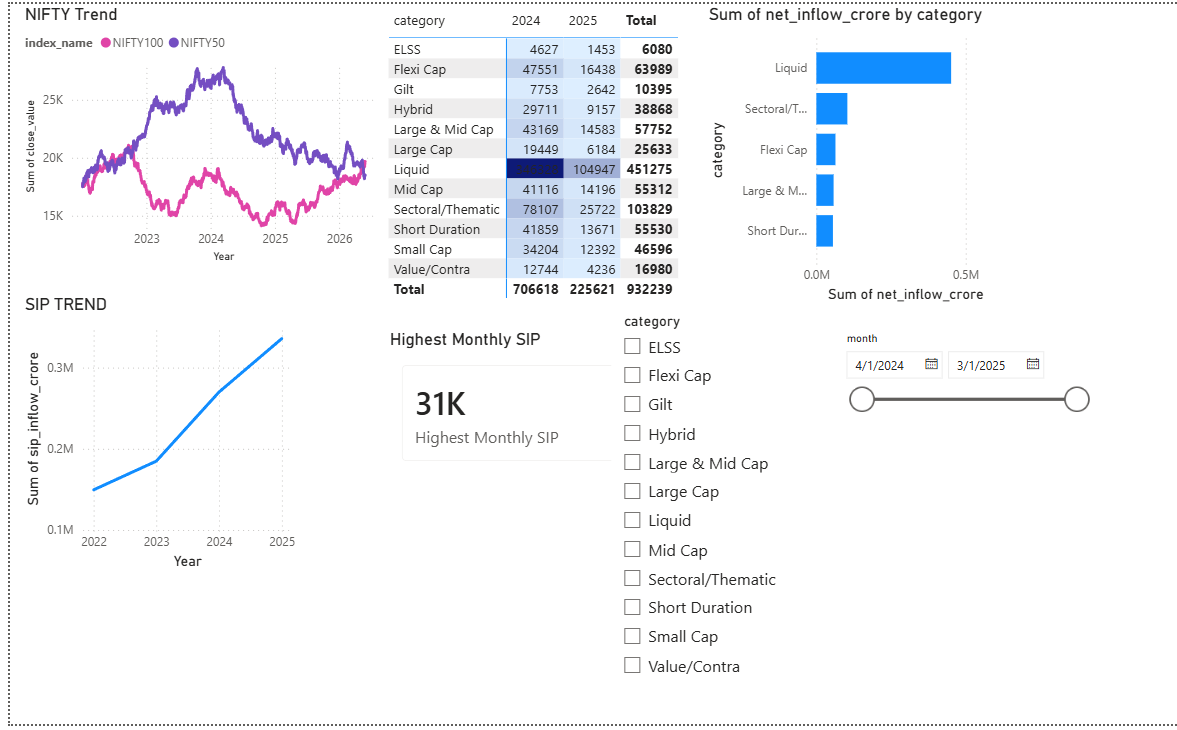

This screenshot's page, from the dashboard's own definition file:
{"tool":"powerbi","page":{"name":"SIP & Market Trends","canvas":[1280,720],"ordinal":3},"visuals":[{"type":"lineChart","title":"NIFTY Trend","fields":{"Y":["Sum(10_benchmark_indices.close_value)"],"Category":["10_benchmark_indices.date.Variation.Date Hierarchy.Year","10_benchmark_indices.date.Variation.Date Hierarchy.Quarter","10_benchmark_indices.date.Variation.Date Hierarchy.Month","10_benchmark_indices.date.Variation.Date Hierarchy.Day"],"Series":["10_benchmark_indices.index_name"]},"box":[10,0,363.3,263.3],"z":0},{"type":"lineChart","title":"SIP TREND","fields":{"Category":["04_monthly_sip_inflows.month.Variation.Date Hierarchy.Year","04_monthly_sip_inflows.month.Variation.Date Hierarchy.Quarter","04_monthly_sip_inflows.month.Variation.Date Hierarchy.Month","04_monthly_sip_inflows.month.Variation.Date Hierarchy.Day"],"Y":["Sum(04_monthly_sip_inflows.sip_inflow_crore)"]},"box":[10,290,280,280],"z":1000},{"type":"pivotTable","fields":{"Rows":["05_category_inflows.category"],"Columns":["05_category_inflows.month.Variation.Date Hierarchy.Year","05_category_inflows.month.Variation.Date Hierarchy.Quarter","05_category_inflows.month.Variation.Date Hierarchy.Month","05_category_inflows.month.Variation.Date Hierarchy.Day"],"Values":["Sum(05_category_inflows.net_inflow_crore)"]},"box":[373.3,0,311.1,303.3],"z":2000},{"type":"clusteredBarChart","fields":{"Category":["05_category_inflows.category"],"Y":["Sum(05_category_inflows.net_inflow_crore)"]},"box":[694,0,311,303],"z":3000},{"type":"cardVisual","title":"Highest Monthly SIP","fields":{"Data":["Max(04_monthly_sip_inflows.sip_inflow_crore)"]},"box":[375.6,324.4,264.4,150],"z":4000},{"type":"slicer","fields":{"Values":["05_category_inflows.category"]},"box":[601.1,303.3,264.4,376.7],"z":4001},{"type":"slicer","fields":{"Values":["05_category_inflows.month"]},"box":[823.3,322.2,264.4,107.8],"z":4002}]}

Visuals, with their boxes on the page's 1280x720 design canvas (x1, y1, x2, y2). These are canvas units, not pixel positions in the 1177x730 screenshot, which may show the page scaled, cropped or inside an application window:
"NIFTY Trend" lineChart: (x1=10, y1=0, x2=373, y2=263)
"SIP TREND" lineChart: (x1=10, y1=290, x2=290, y2=570)
pivotTable - 05_category_inflows.category x 05_category_inflows.month.Variation.Date Hierarchy.Year: (x1=373, y1=0, x2=684, y2=303)
clusteredBarChart - 05_category_inflows.category x Sum(05_category_inflows.net_inflow_crore): (x1=694, y1=0, x2=1005, y2=303)
"Highest Monthly SIP" cardVisual: (x1=376, y1=324, x2=640, y2=474)
slicer - 05_category_inflows.category: (x1=601, y1=303, x2=866, y2=680)
slicer - 05_category_inflows.month: (x1=823, y1=322, x2=1088, y2=430)
